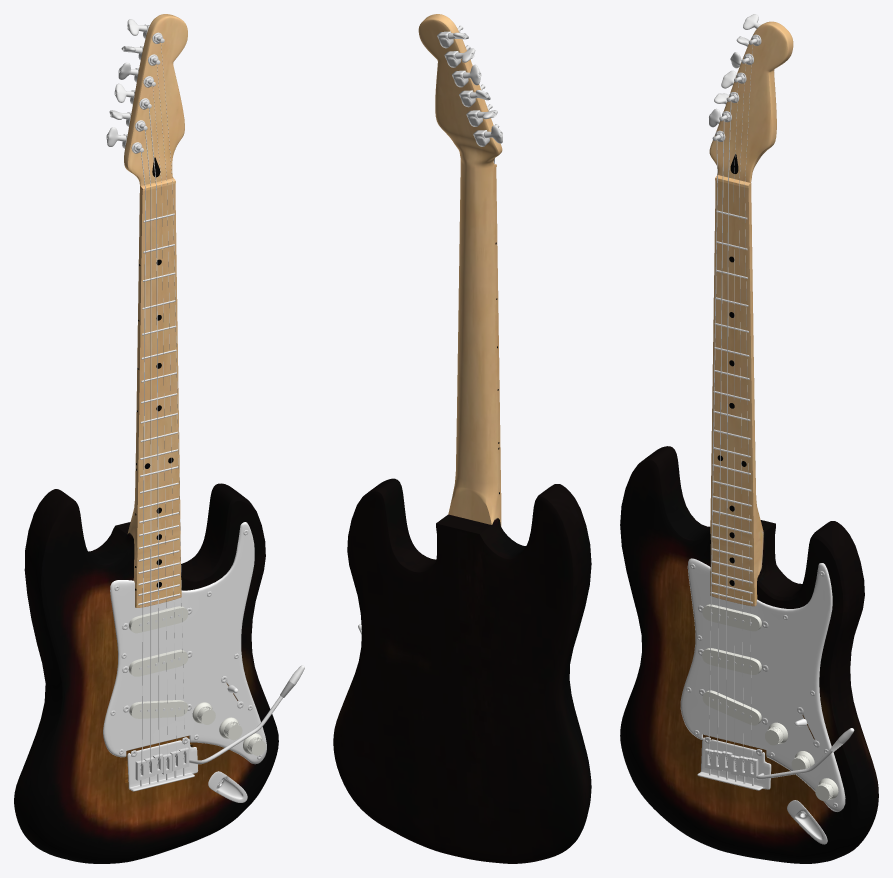
The model's file is electric-guitar.glb.
3 renders of one model, left to right at view 1: azimuth 30°, elevation 25°; view 2: azimuth 150°, elevation 25°; view 3: azimuth 330°, elevation 25°, orthographic.
Parts seen in each view (by area): view 1: Cube, Cube.025, Plane.029, Plane.039, Plane.030, Plane.012, Plane.016, Plane.018, Plane.038, Plane.040, Plane.045; view 2: Cube; view 3: Cube, Cube.025, Plane.029, Plane.030, Plane.018, Plane.012, Plane.016, Plane.038, Plane.039, Plane.040, Plane.045, Plane.034 (+2 smaller).
Part boxes in pixels (x1,y1,x2,y2): Cube: (14,14,278,863); Cube.025: (103,522,266,764); Plane.029: (127,738,198,791); Plane.039: (145,130,151,769); Plane.030: (135,747,189,780); Plane.012: (129,606,188,633); Plane.016: (128,649,188,676); Plane.018: (129,700,188,718); Plane.038: (149,108,159,767); Plane.040: (140,152,145,772); Plane.045: (208,771,247,802); Cube: (333,14,591,863); Cube: (620,21,878,863); Cube.025: (680,558,845,811); Plane.029: (697,737,771,790); Plane.030: (704,748,758,778); Plane.018: (702,690,761,725); Plane.012: (702,604,761,631); Plane.016: (702,648,761,674); Plane.038: (725,101,731,764); Plane.039: (717,120,724,762); Plane.040: (708,140,717,761); Plane.045: (787,800,827,844); Plane.034: (744,45,753,768).
Size of the model in its own units: 3.07 by 9.43 by 0.8353.
Materials: 6 (1 with a texture image).
